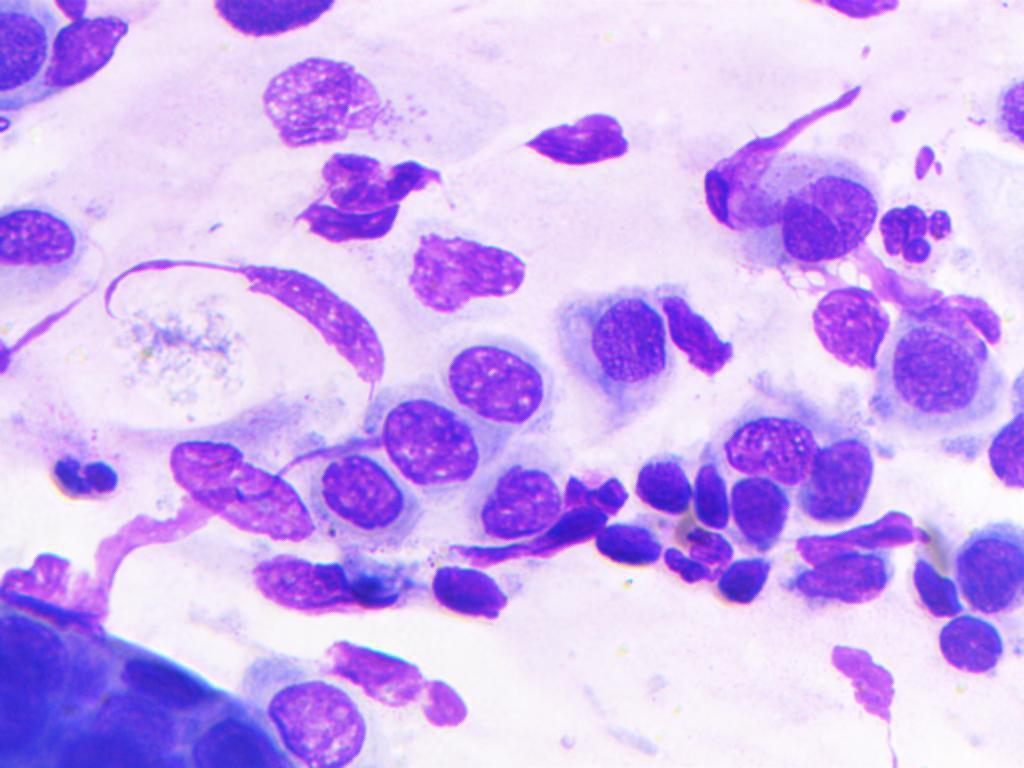artifact: (108, 258, 384, 384), (330, 637, 480, 733), (299, 154, 448, 246), (823, 640, 909, 768), (253, 550, 413, 614), (696, 128, 783, 237), (509, 109, 646, 178), (790, 533, 890, 610), (801, 512, 921, 561)
epithelial: (255, 48, 446, 151), (553, 263, 676, 417), (872, 302, 1020, 427), (154, 432, 312, 547), (382, 224, 542, 317), (301, 443, 429, 555), (780, 172, 888, 271), (0, 193, 103, 281), (443, 342, 556, 422), (381, 397, 478, 490), (783, 436, 883, 524), (717, 395, 814, 482), (464, 462, 565, 536), (804, 286, 891, 369), (0, 0, 59, 117), (202, 0, 350, 41), (0, 604, 67, 690), (83, 688, 170, 751), (120, 657, 221, 710), (188, 719, 286, 768), (926, 613, 1002, 675), (0, 677, 58, 752), (46, 731, 152, 768), (983, 417, 1024, 500)
lymphocyte: (265, 679, 364, 765), (950, 521, 1024, 619)
metaplastic: (40, 8, 128, 98), (716, 549, 784, 626), (436, 557, 513, 624), (728, 469, 793, 548), (666, 514, 733, 582), (53, 449, 131, 506), (634, 450, 697, 520), (908, 553, 968, 616), (690, 453, 734, 536), (597, 519, 661, 573)
neutrophil: (873, 196, 964, 269)
